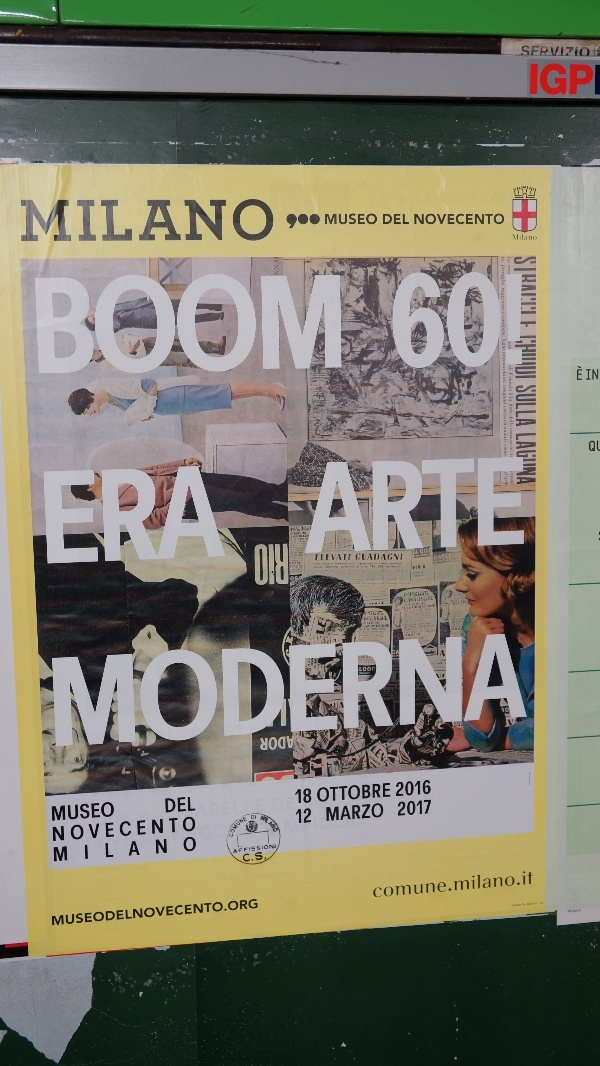text: (49, 620, 64, 756), (65, 620, 80, 756), (81, 620, 96, 756), (97, 620, 112, 756), (113, 620, 128, 756), (129, 620, 144, 756), (145, 620, 160, 756), (161, 620, 176, 756), (177, 620, 192, 756), (193, 620, 208, 756), (209, 620, 224, 756), (225, 620, 240, 756), (241, 620, 256, 756), (257, 620, 272, 756), (273, 620, 288, 756), (289, 620, 304, 756), (305, 620, 320, 756), (321, 620, 336, 756), (337, 620, 352, 756), (353, 620, 368, 756), (369, 620, 384, 756), (385, 620, 400, 756), (401, 620, 416, 756), (417, 620, 432, 756), (433, 620, 448, 756), (449, 620, 464, 756), (465, 620, 480, 756), (481, 620, 496, 756), (497, 620, 512, 756), (513, 620, 528, 756), (337, 450, 352, 562), (353, 450, 368, 562), (369, 450, 384, 562), (385, 450, 400, 562), (401, 450, 416, 562), (417, 450, 432, 562), (433, 450, 448, 562), (449, 450, 464, 562), (465, 450, 480, 562), (481, 450, 496, 562), (497, 450, 512, 562), (513, 450, 527, 562), (401, 269, 416, 372), (417, 269, 432, 372), (433, 269, 448, 372), (449, 269, 464, 372), (465, 269, 480, 372), (481, 269, 496, 372), (497, 269, 512, 372), (49, 277, 64, 377), (65, 277, 80, 377), (81, 277, 96, 377), (97, 277, 112, 377), (113, 277, 128, 377), (129, 277, 144, 377), (145, 277, 160, 377), (161, 277, 176, 377), (177, 277, 192, 377), (193, 277, 208, 377), (209, 277, 224, 377), (225, 277, 240, 377), (241, 277, 256, 377), (257, 277, 272, 377), (273, 277, 288, 377), (289, 277, 304, 377), (305, 277, 320, 377), (321, 277, 336, 377), (49, 469, 64, 566), (65, 469, 80, 566), (81, 469, 96, 566), (97, 469, 112, 566), (113, 469, 128, 566), (129, 469, 144, 566), (145, 469, 160, 566), (161, 469, 176, 566), (177, 469, 192, 566), (193, 469, 208, 566), (209, 469, 224, 566), (35, 277, 48, 377), (513, 269, 525, 372), (325, 450, 336, 562), (393, 269, 400, 372), (33, 200, 48, 244), (49, 200, 64, 244), (65, 200, 80, 244), (81, 200, 96, 244), (97, 200, 112, 244), (113, 200, 128, 244), (129, 200, 144, 244), (145, 200, 160, 244), (161, 200, 176, 244), (177, 200, 192, 244), (193, 200, 208, 244), (209, 200, 224, 244), (225, 200, 240, 244), (241, 200, 256, 244), (257, 200, 272, 244), (545, 62, 560, 96), (561, 62, 576, 96), (577, 62, 592, 96), (337, 277, 342, 377), (65, 898, 80, 931), (81, 898, 96, 931), (97, 898, 112, 931), (113, 898, 128, 931), (129, 898, 144, 931), (145, 898, 160, 931), (161, 898, 176, 931), (177, 898, 192, 931), (193, 898, 208, 931), (209, 898, 224, 931), (225, 898, 240, 931), (241, 898, 256, 931), (385, 869, 400, 902), (401, 869, 416, 902), (417, 869, 432, 902), (433, 869, 448, 902), (449, 869, 464, 902), (465, 869, 480, 902), (481, 869, 496, 902), (497, 869, 512, 902), (513, 869, 528, 902), (21, 200, 32, 244), (530, 62, 544, 96), (65, 815, 80, 843), (81, 815, 96, 843), (97, 815, 112, 843), (113, 815, 128, 843), (129, 815, 144, 843), (145, 815, 160, 843), (161, 815, 176, 843), (177, 815, 192, 843), (305, 209, 321, 235), (52, 898, 64, 931), (289, 209, 304, 235), (65, 837, 80, 863), (81, 837, 96, 863), (97, 837, 112, 863), (113, 837, 128, 863), (129, 837, 144, 863), (145, 837, 160, 863), (161, 837, 176, 863), (177, 837, 192, 863), (44, 469, 48, 566), (321, 782, 336, 805), (337, 782, 352, 805), (353, 782, 368, 805), (369, 782, 384, 805), (52, 815, 64, 843), (374, 869, 384, 902), (417, 798, 433, 818), (337, 802, 352, 823), (353, 802, 368, 823), (369, 802, 384, 823), (228, 814, 240, 840), (65, 802, 80, 822), (81, 802, 96, 822), (97, 802, 112, 822), (401, 779, 416, 799), (417, 779, 432, 799), (401, 798, 416, 818), (53, 837, 64, 863), (177, 795, 192, 814), (529, 620, 531, 756), (51, 802, 64, 822), (385, 211, 400, 228), (577, 365, 592, 382), (260, 813, 272, 833), (337, 213, 352, 228), (353, 213, 368, 228), (417, 212, 432, 227), (433, 212, 448, 227), (449, 212, 464, 227), (465, 212, 480, 227), (481, 212, 496, 227), (326, 802, 336, 823), (165, 795, 176, 814), (529, 869, 535, 902), (242, 851, 256, 865), (529, 45, 544, 58), (545, 45, 560, 58), (561, 45, 576, 58), (241, 843, 256, 856), (257, 843, 272, 856), (577, 45, 590, 58), (325, 213, 336, 228), (295, 788, 304, 806), (241, 814, 247, 840), (401, 211, 410, 228), (257, 851, 267, 865), (385, 782, 391, 805), (296, 808, 304, 825), (369, 213, 378, 228), (513, 233, 528, 242), (305, 788, 312, 806), (497, 212, 505, 227), (273, 813, 279, 833), (305, 808, 312, 825), (193, 837, 197, 863), (225, 469, 226, 566), (521, 45, 528, 58), (593, 440, 600, 453), (233, 843, 240, 856), (193, 815, 196, 843), (396, 779, 400, 799), (586, 368, 592, 381), (593, 368, 599, 381), (529, 233, 537, 242), (317, 782, 320, 805), (257, 898, 259, 931), (397, 798, 400, 818), (193, 795, 196, 814), (286, 209, 288, 235), (273, 843, 277, 856), (273, 200, 274, 244), (250, 814, 256, 821), (113, 802, 115, 822), (589, 440, 592, 453), (382, 211, 384, 228), (593, 62, 594, 96), (414, 212, 416, 227)
